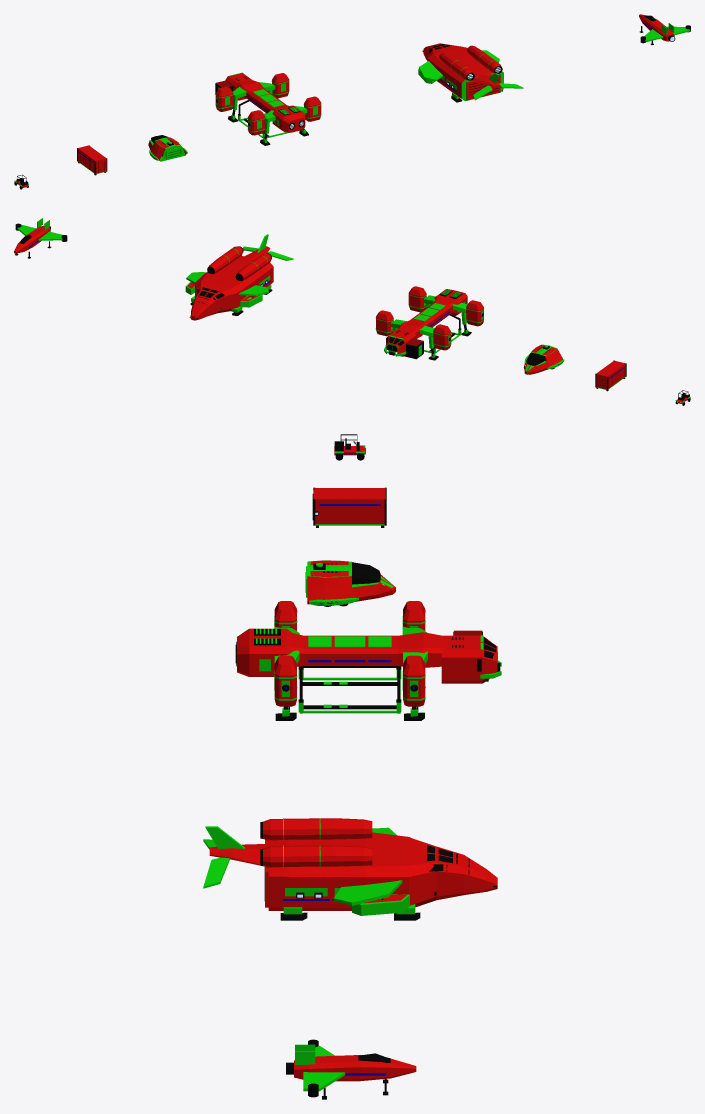
File: craft.glb
3 views of the same model, one above another, from view 1: azimuth 30°, elevation 25°; view 2: azimuth 150°, elevation 25°; view 3: azimuth 270°, elevation 25° (orthographic). The views are drawn at different scales.
Parts seen in each view (by area): view 1: dropship, lifter, fighter, tank, crate, lifter:engine_FL, lifter:engine_RL, lifter:engine_RR, lifter:engine_FR, dropship:ramp; view 2: dropship, lifter, fighter, tank, crate, lifter:engine_FL, lifter:engine_RL, lifter:engine_RR, lifter:engine_FR; view 3: dropship, lifter, fighter, crate, tank, lifter:cradle, lifter:engine_FR, lifter:engine_RR.
Boxes of the visible parts, x1,y1,x2,y2 form: dropship: [418, 43, 523, 102]; lifter: [225, 72, 308, 145]; fighter: [639, 14, 690, 45]; tank: [148, 137, 187, 161]; crate: [77, 145, 107, 175]; lifter:engine_FL: [215, 86, 233, 111]; lifter:engine_RL: [247, 110, 265, 135]; lifter:engine_RR: [303, 96, 321, 121]; lifter:engine_FR: [271, 73, 289, 98]; dropship:ramp: [466, 74, 500, 100]; dropship: [185, 234, 293, 320]; lifter: [384, 289, 471, 360]; fighter: [14, 218, 67, 258]; tank: [523, 344, 564, 374]; crate: [595, 360, 626, 391]; lifter:engine_FL: [433, 324, 451, 350]; lifter:engine_RL: [466, 300, 483, 326]; lifter:engine_RR: [408, 286, 426, 312]; lifter:engine_FR: [375, 310, 393, 336]; dropship: [203, 818, 497, 920]; lifter: [235, 626, 501, 720]; fighter: [286, 1039, 416, 1099]; crate: [313, 487, 386, 527]; tank: [307, 560, 395, 606]; lifter:cradle: [298, 666, 401, 713]; lifter:engine_FR: [402, 655, 425, 706]; lifter:engine_RR: [274, 655, 297, 706].
Size of the model in its own units: 150 by 8.3 by 29.28.
